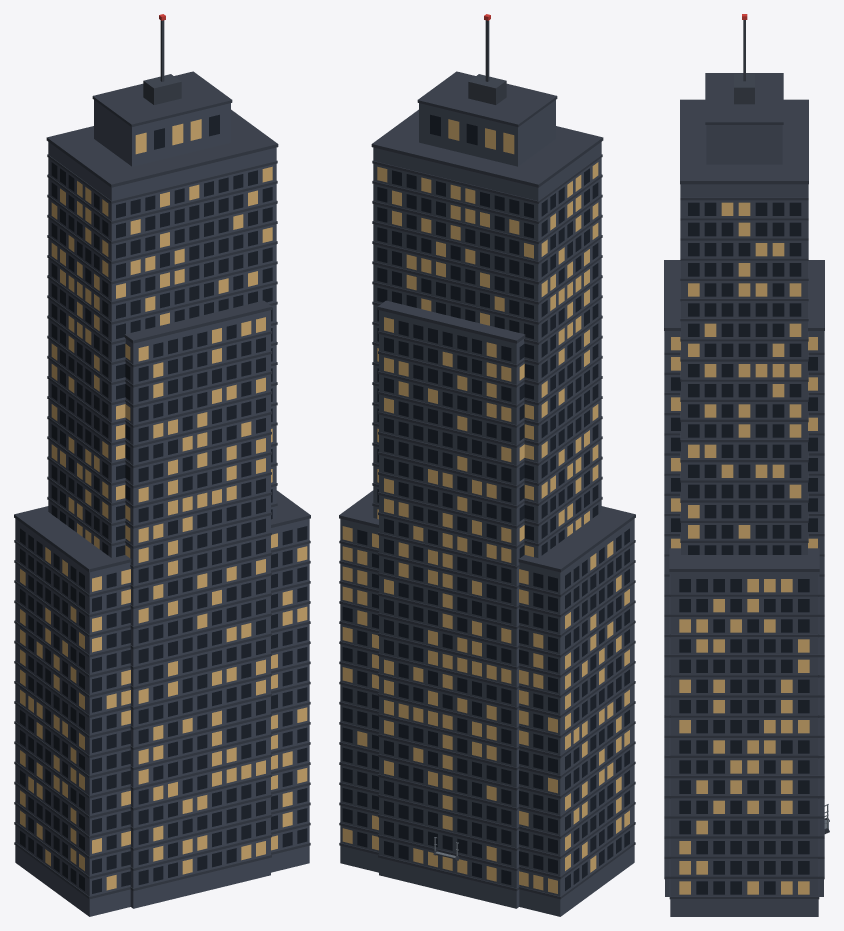
File: Kit.fbx
3 views of the same model, side by side, from view 1: azimuth 30°, elevation 25°; view 2: azimuth 150°, elevation 25°; view 3: azimuth 270°, elevation 25° (orthographic).
Visible parts, largest first — view 1: R4TowerB_R4_TowerBody, R4TowerA_R4_TowerBody, R4TowerC_R4_TowerBody, R4TowerB_R4_TowerDark, R4TowerA_R4_TowerBand, R4TowerA_R4_TowerDark, R4TowerC_R4_TowerDark, R4TowerB_R4_TowerBand, R4TowerC_R4_TowerBand, R4TowerB_R4_TowerLit, R4TowerA_R4_TowerLit, R4TowerC_R4_TowerLit (+1 smaller); view 2: R4TowerB_R4_TowerBody, R4TowerA_R4_TowerBody, R4TowerC_R4_TowerBody, R4TowerB_R4_TowerDark, R4TowerA_R4_TowerBand, R4TowerC_R4_TowerDark, R4TowerA_R4_TowerDark, R4TowerB_R4_TowerBand, R4TowerB_R4_TowerLit, R4TowerC_R4_TowerBand, R4TowerA_R4_TowerLit, R4TowerC_R4_TowerLit (+1 smaller); view 3: R4TowerC_R4_TowerBody, R4TowerA_R4_TowerBody, R4TowerA_R4_TowerBand, R4TowerA_R4_TowerDark, R4TowerC_R4_TowerDark, R4TowerC_R4_TowerBand, R4TowerC_R4_TowerLit, R4TowerB_R4_TowerBody, R4TowerA_R4_TowerLit, R4TowerB_R4_TowerBand, R4TowerB_R4_TowerDark, R4TowerB_R4_TowerLit (+1 smaller).
Boxes of the visible parts, left/top/right/bottom form: R4TowerB_R4_TowerBody: left=125, top=310, right=270, bottom=908; R4TowerA_R4_TowerBody: left=48, top=100, right=276, bottom=557; R4TowerC_R4_TowerBody: left=15, top=518, right=309, bottom=916; R4TowerB_R4_TowerDark: left=125, top=324, right=265, bottom=884; R4TowerA_R4_TowerBand: left=46, top=71, right=278, bottom=546; R4TowerA_R4_TowerDark: left=51, top=114, right=272, bottom=556; R4TowerC_R4_TowerDark: left=20, top=526, right=307, bottom=893; R4TowerB_R4_TowerBand: left=124, top=300, right=272, bottom=891; R4TowerC_R4_TowerBand: left=14, top=490, right=310, bottom=899; R4TowerB_R4_TowerLit: left=125, top=317, right=265, bottom=874; R4TowerA_R4_TowerLit: left=51, top=119, right=272, bottom=548; R4TowerC_R4_TowerLit: left=20, top=533, right=307, bottom=890; R4TowerB_R4_TowerBody: left=379, top=310, right=524, bottom=908; R4TowerA_R4_TowerBody: left=373, top=100, right=601, bottom=557; R4TowerC_R4_TowerBody: left=340, top=518, right=634, bottom=916; R4TowerB_R4_TowerDark: left=384, top=321, right=524, bottom=884; R4TowerA_R4_TowerBand: left=371, top=71, right=603, bottom=546; R4TowerC_R4_TowerDark: left=342, top=528, right=629, bottom=890; R4TowerA_R4_TowerDark: left=377, top=114, right=598, bottom=555; R4TowerB_R4_TowerBand: left=377, top=300, right=525, bottom=891; R4TowerB_R4_TowerLit: left=384, top=317, right=524, bottom=881; R4TowerC_R4_TowerBand: left=339, top=490, right=635, bottom=899; R4TowerA_R4_TowerLit: left=377, top=119, right=598, bottom=556; R4TowerC_R4_TowerLit: left=342, top=526, right=629, bottom=893; R4TowerC_R4_TowerBody: left=670, top=572, right=818, bottom=916; R4TowerA_R4_TowerBody: left=681, top=125, right=807, bottom=554; R4TowerA_R4_TowerBand: left=680, top=73, right=808, bottom=542; R4TowerA_R4_TowerDark: left=688, top=202, right=801, bottom=554; R4TowerC_R4_TowerDark: left=679, top=579, right=809, bottom=894; R4TowerC_R4_TowerBand: left=669, top=548, right=819, bottom=899; R4TowerC_R4_TowerLit: left=679, top=579, right=809, bottom=894; R4TowerB_R4_TowerBody: left=665, top=331, right=823, bottom=896; R4TowerA_R4_TowerLit: left=688, top=202, right=801, bottom=538; R4TowerB_R4_TowerBand: left=664, top=260, right=824, bottom=879; R4TowerB_R4_TowerDark: left=671, top=357, right=817, bottom=531; R4TowerB_R4_TowerLit: left=671, top=337, right=817, bottom=548.
Bounding box in the file's own units: 48.4 × 183 × 31.33.
